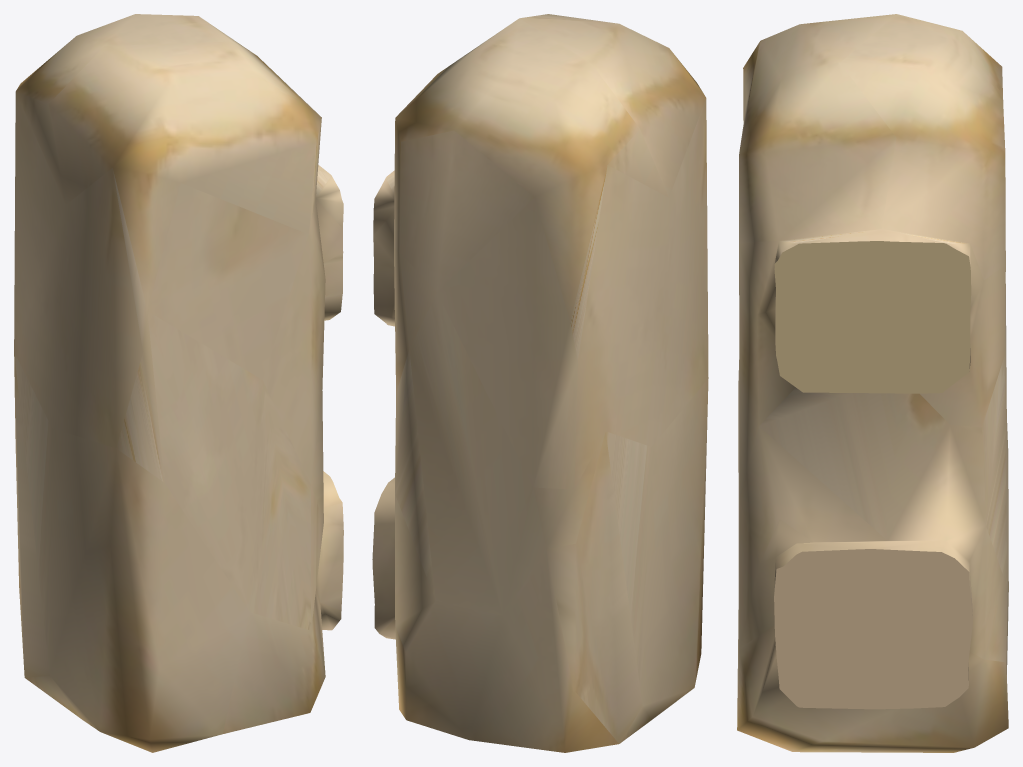
Rendered from fence-post-lite.glb.
3 renders of one model, left to right at view 1: azimuth 30°, elevation 25°; view 2: azimuth 150°, elevation 25°; view 3: azimuth 270°, elevation 25°, orthographic.
Visible parts, largest first — view 1: tripo_node_55770d52-07b5-4ddc-9917-7e2108ed7f3b; view 2: tripo_node_55770d52-07b5-4ddc-9917-7e2108ed7f3b; view 3: tripo_node_55770d52-07b5-4ddc-9917-7e2108ed7f3b.
Boxes of the visible parts, x1,y1,x2,y2 form: tripo_node_55770d52-07b5-4ddc-9917-7e2108ed7f3b: (14, 14, 343, 752); tripo_node_55770d52-07b5-4ddc-9917-7e2108ed7f3b: (372, 14, 708, 752); tripo_node_55770d52-07b5-4ddc-9917-7e2108ed7f3b: (737, 14, 1008, 752).
Bounding box in the file's own units: 0.2991 × 0.8 × 0.292.
Materials: 1 (1 with a texture image).
